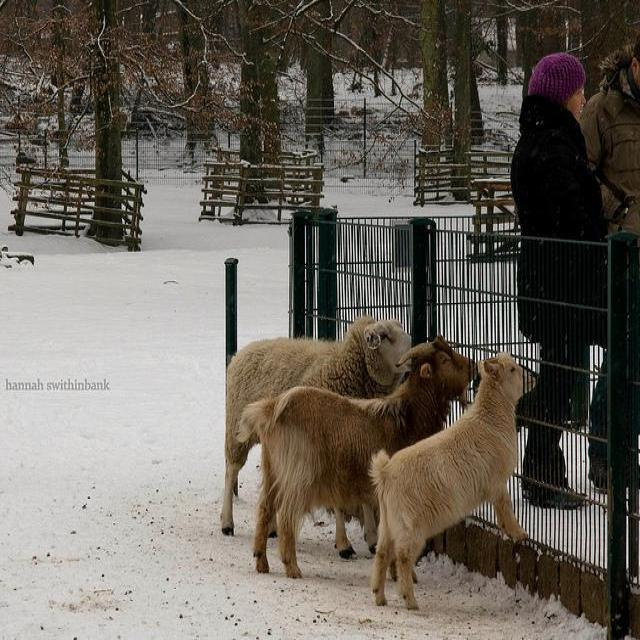Sheep: (240, 338, 478, 579), (368, 349, 542, 617), (222, 314, 414, 539)
